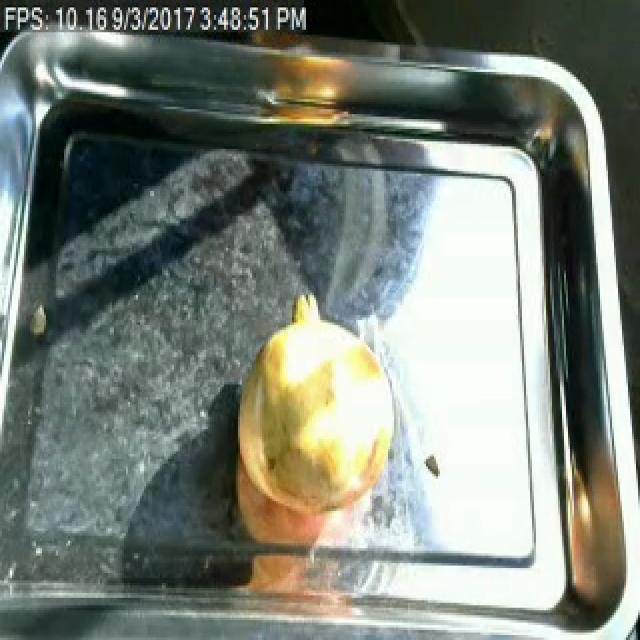fruit: (226, 295, 412, 531)
